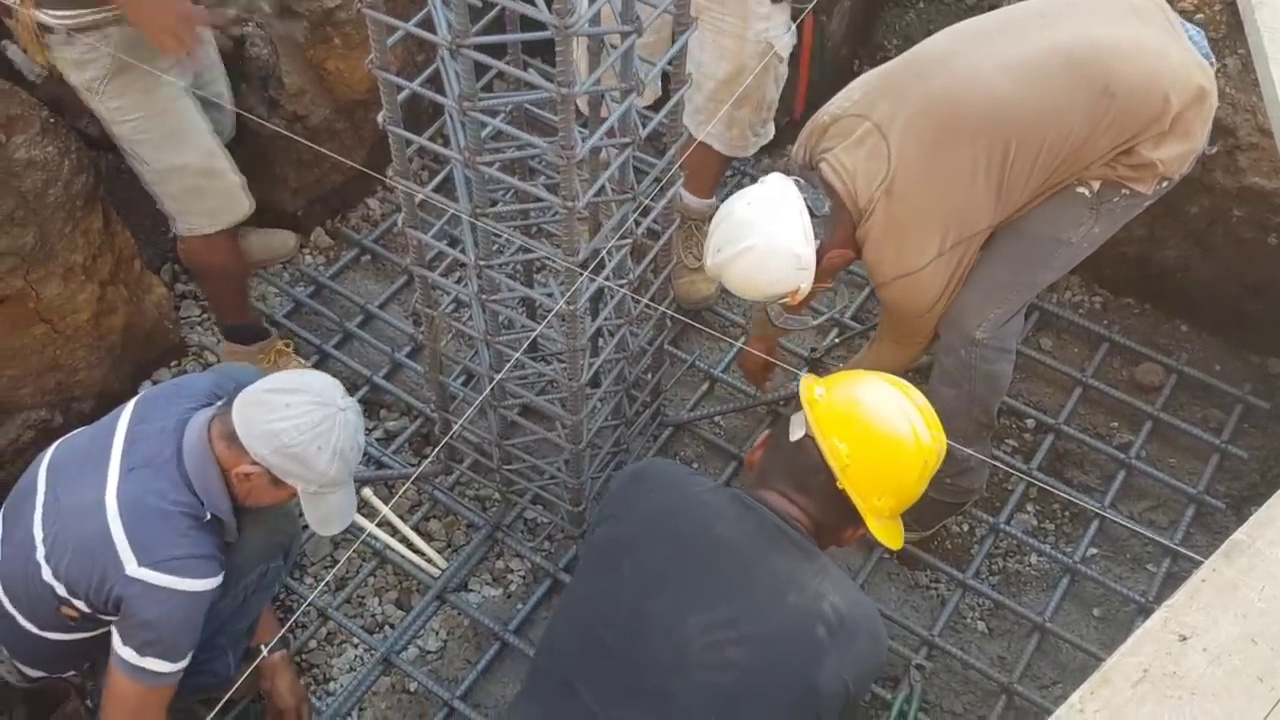helmet: (701, 173, 817, 311)
helmet-off: (204, 367, 364, 539)
helmet-on: (742, 370, 953, 554)
person: (714, 19, 1241, 489), (0, 0, 338, 445), (4, 352, 392, 699), (523, 386, 940, 703), (373, 4, 472, 223)
